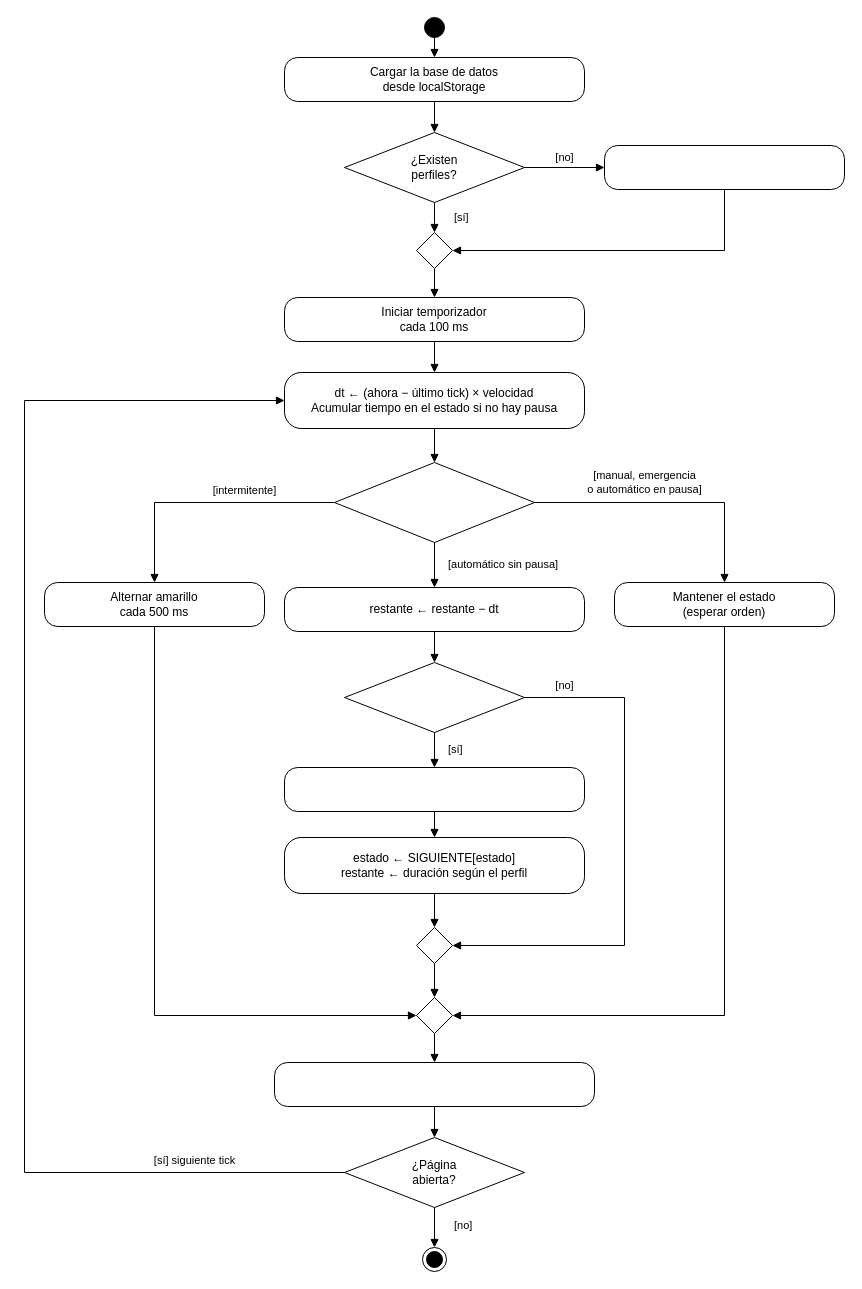
Some shapes in this 862 by 1289 pixel diagram are drawn without their labels. Here are the shapes that lost their labels. From the top down, the box of each, then its label:
(604, 144, 844, 190): Insertar perfiles semilla
(334, 462, 534, 542): ¿Modo de operación?
(344, 662, 524, 732): ¿restante ≤ 0?
(284, 766, 584, 812): Registrar evento en la bitácora (base de datos)
(274, 1062, 594, 1106): Dibujar luces, contador, bitácora y estadísticas
